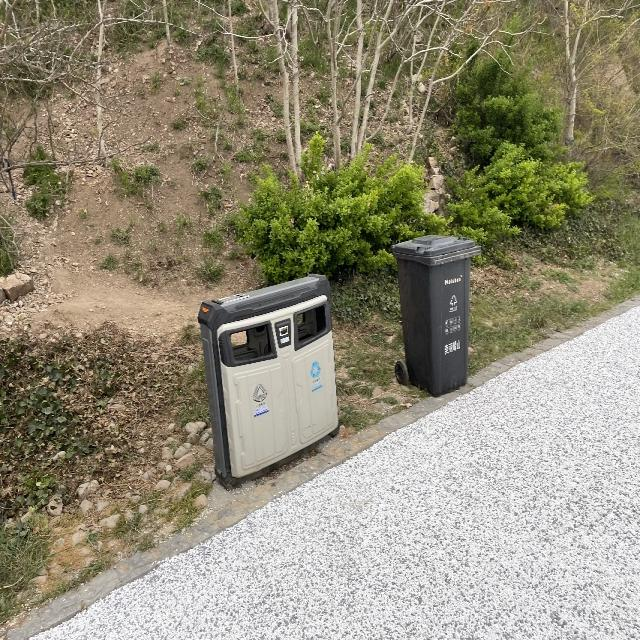garbage_bin: (197, 275, 338, 490), (391, 232, 479, 396)
